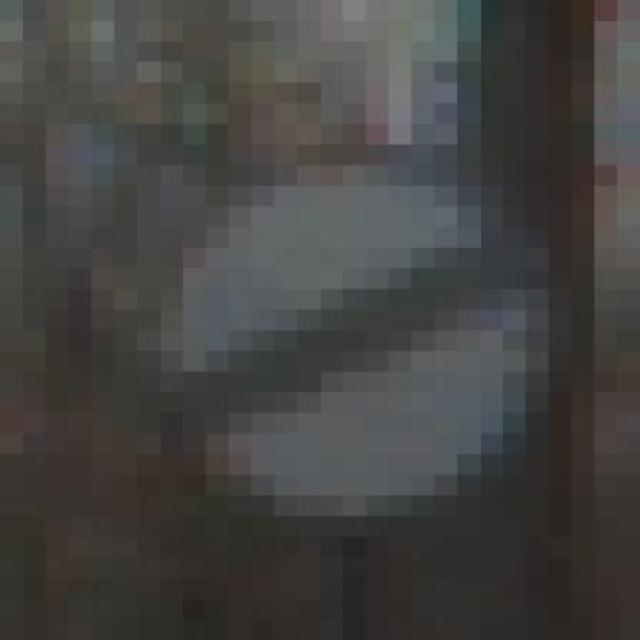End of all speed and passing limits: (137, 122, 572, 576)
